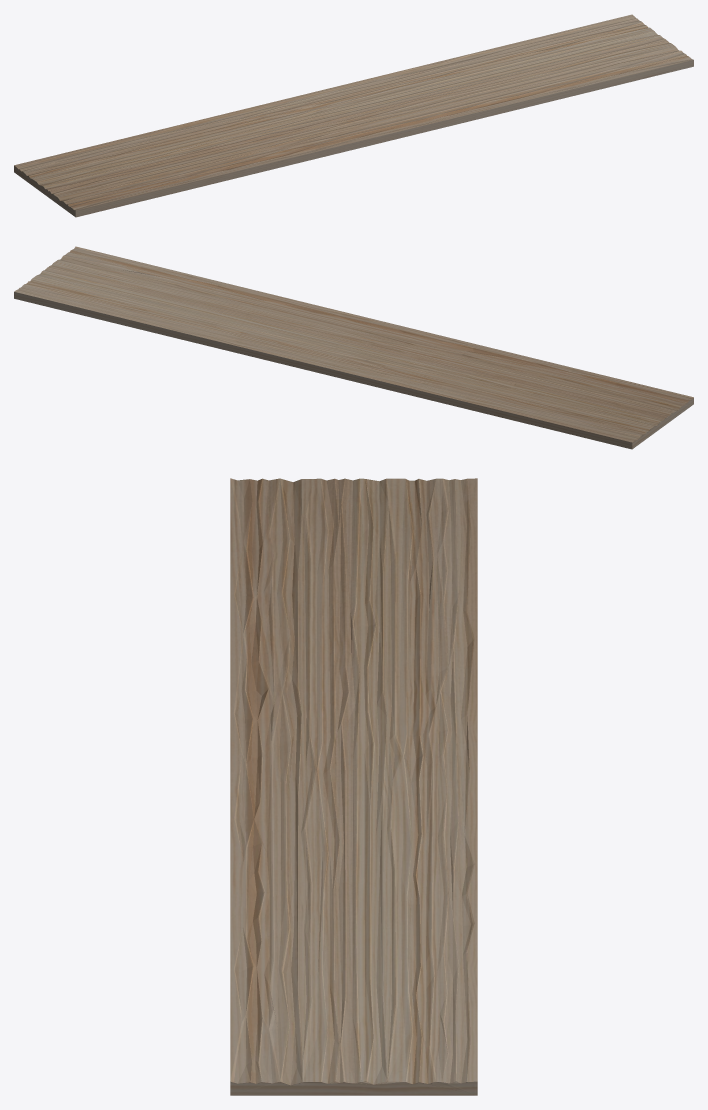
The picture shows the model from 3 angles, top to bottom: view 1: azimuth 30°, elevation 25°; view 2: azimuth 150°, elevation 25°; view 3: azimuth 270°, elevation 25°; orthographic projection. The views are drawn at different scales.
Parts seen in each view (by area): view 1: h4; view 2: h4; view 3: h4.
Part boxes in pixels (x1,y1,x2,y2): h4: (14, 14, 693, 217); h4: (14, 246, 693, 449); h4: (230, 478, 477, 1095).
Bounding box in the file's own units: 1791 × 19.47 × 310.
1 material, 1 textured.
